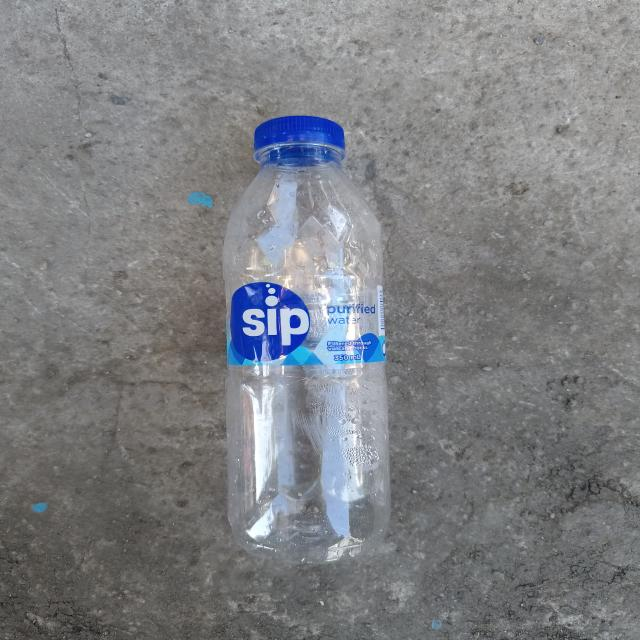Bottle: (223, 116, 390, 564)
